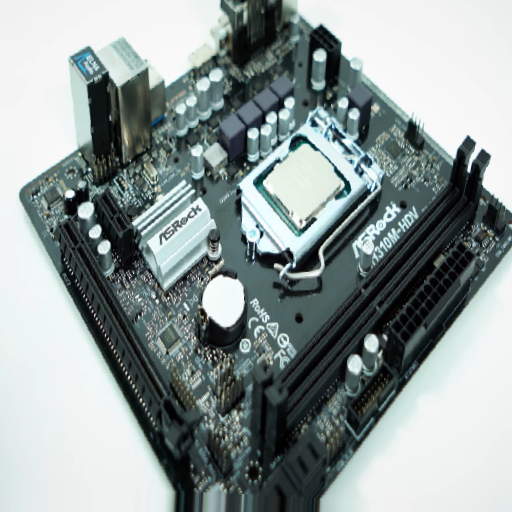CPU: (231, 112, 373, 261)
GPU: (50, 220, 204, 455)
MOTHERBOARD: (20, 1, 512, 509)
RAM: (237, 136, 494, 458)
